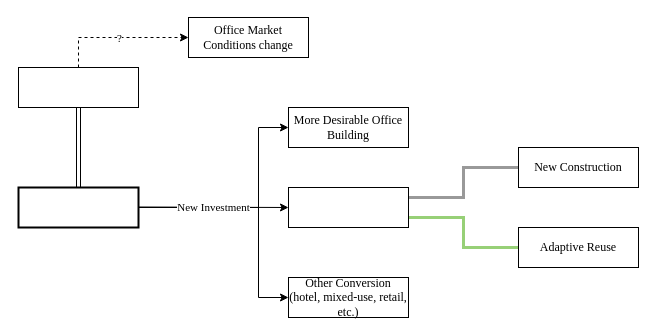
Image size: 656x336. Some labels were removed from this diagram. The shapes that lost their labels are listed below. From the top down, each one's box as (x1, y1, x2, y2) in pixels, then its label:
(18, 66, 138, 108): Extend & Pretend
(17, 186, 139, 228): Vacant Office Building
(288, 186, 408, 228): Multifamily Building
